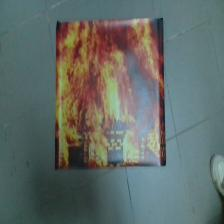fire-poster: (55, 18, 166, 168)
